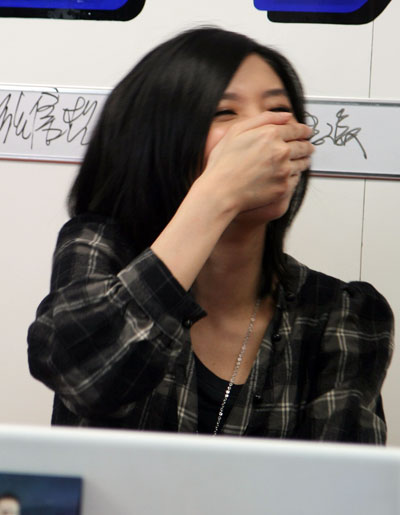face: (196, 52, 312, 224)
